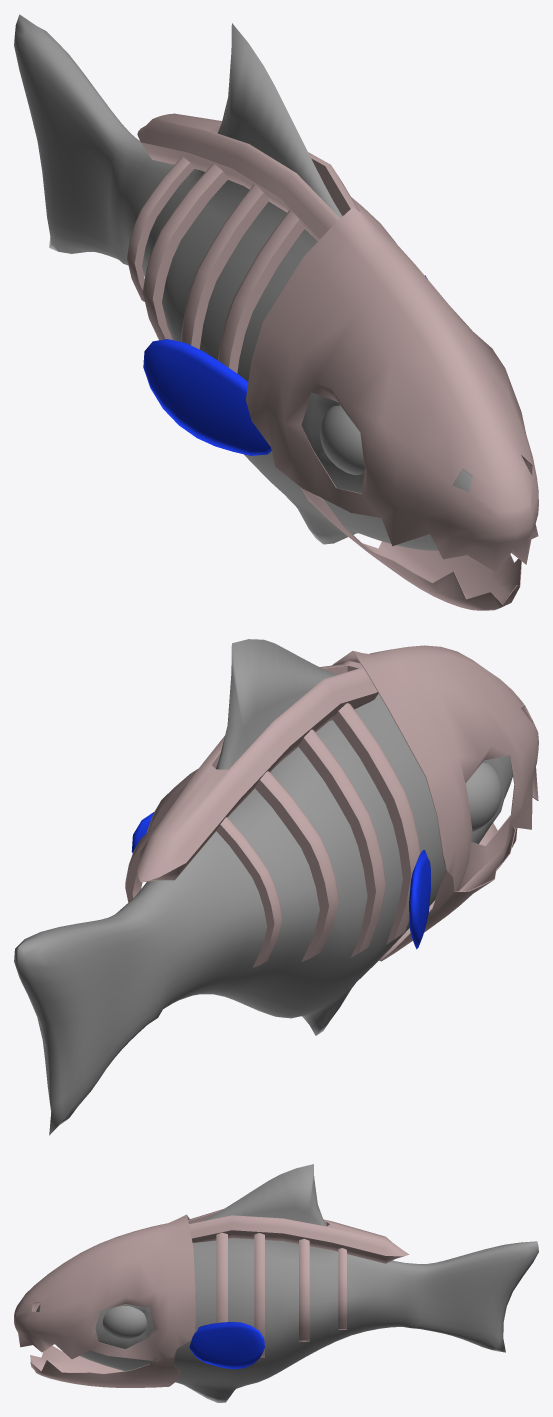
File: SkullyFish_Model_FBX_02.fbx
3 views of the same model, one above another, from view 1: azimuth 30°, elevation 25°; view 2: azimuth 150°, elevation 25°; view 3: azimuth 270°, elevation 25° (orthographic). The views are drawn at different scales.
Visible parts, largest first — view 1: SkullyFish; view 2: SkullyFish; view 3: SkullyFish.
Boxes of the visible parts, left/top/right/bottom form: SkullyFish: left=14, top=14, right=538, bottom=610; SkullyFish: left=14, top=639, right=538, bottom=1135; SkullyFish: left=14, top=1164, right=538, bottom=1402.
Size of the model in its own units: 53.92 by 82.73 by 165.
